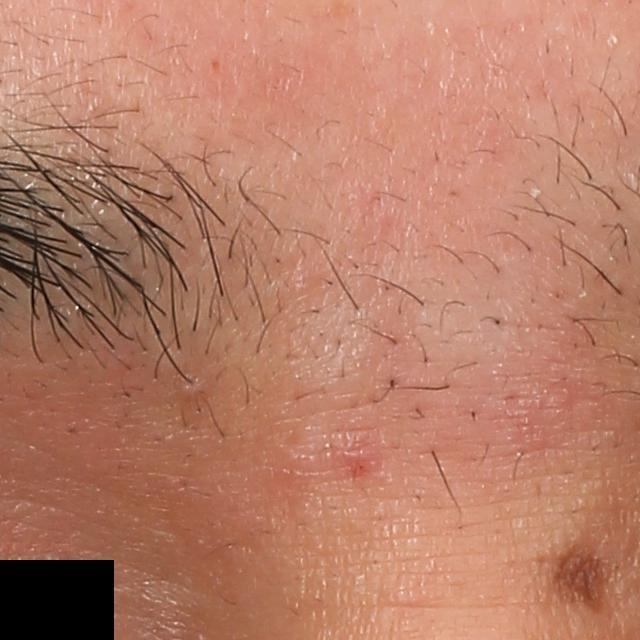nevus: (538, 537, 619, 636)
